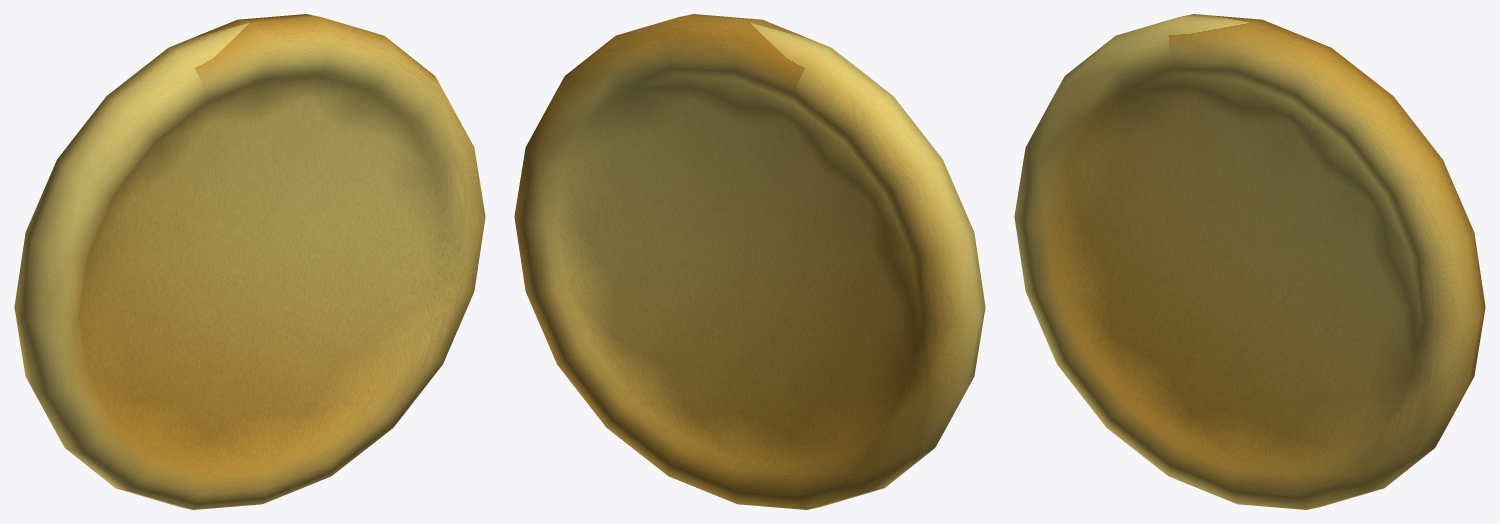
Rendered from coin.FBX.
3 renders of one model, left to right at view 1: azimuth 30°, elevation 25°; view 2: azimuth 150°, elevation 25°; view 3: azimuth 330°, elevation 25°, orthographic.
Visible parts, largest first — view 1: Cylinder001; view 2: Cylinder001; view 3: Cylinder001.
Boxes of the visible parts, x1,y1,x2,y2 form: Cylinder001: [14, 14, 485, 509]; Cylinder001: [514, 14, 985, 509]; Cylinder001: [1014, 14, 1485, 509].
Bounding box in the file's own units: 42.89 × 42.84 × 5.42.
Materials: 1 (1 with a texture image).
